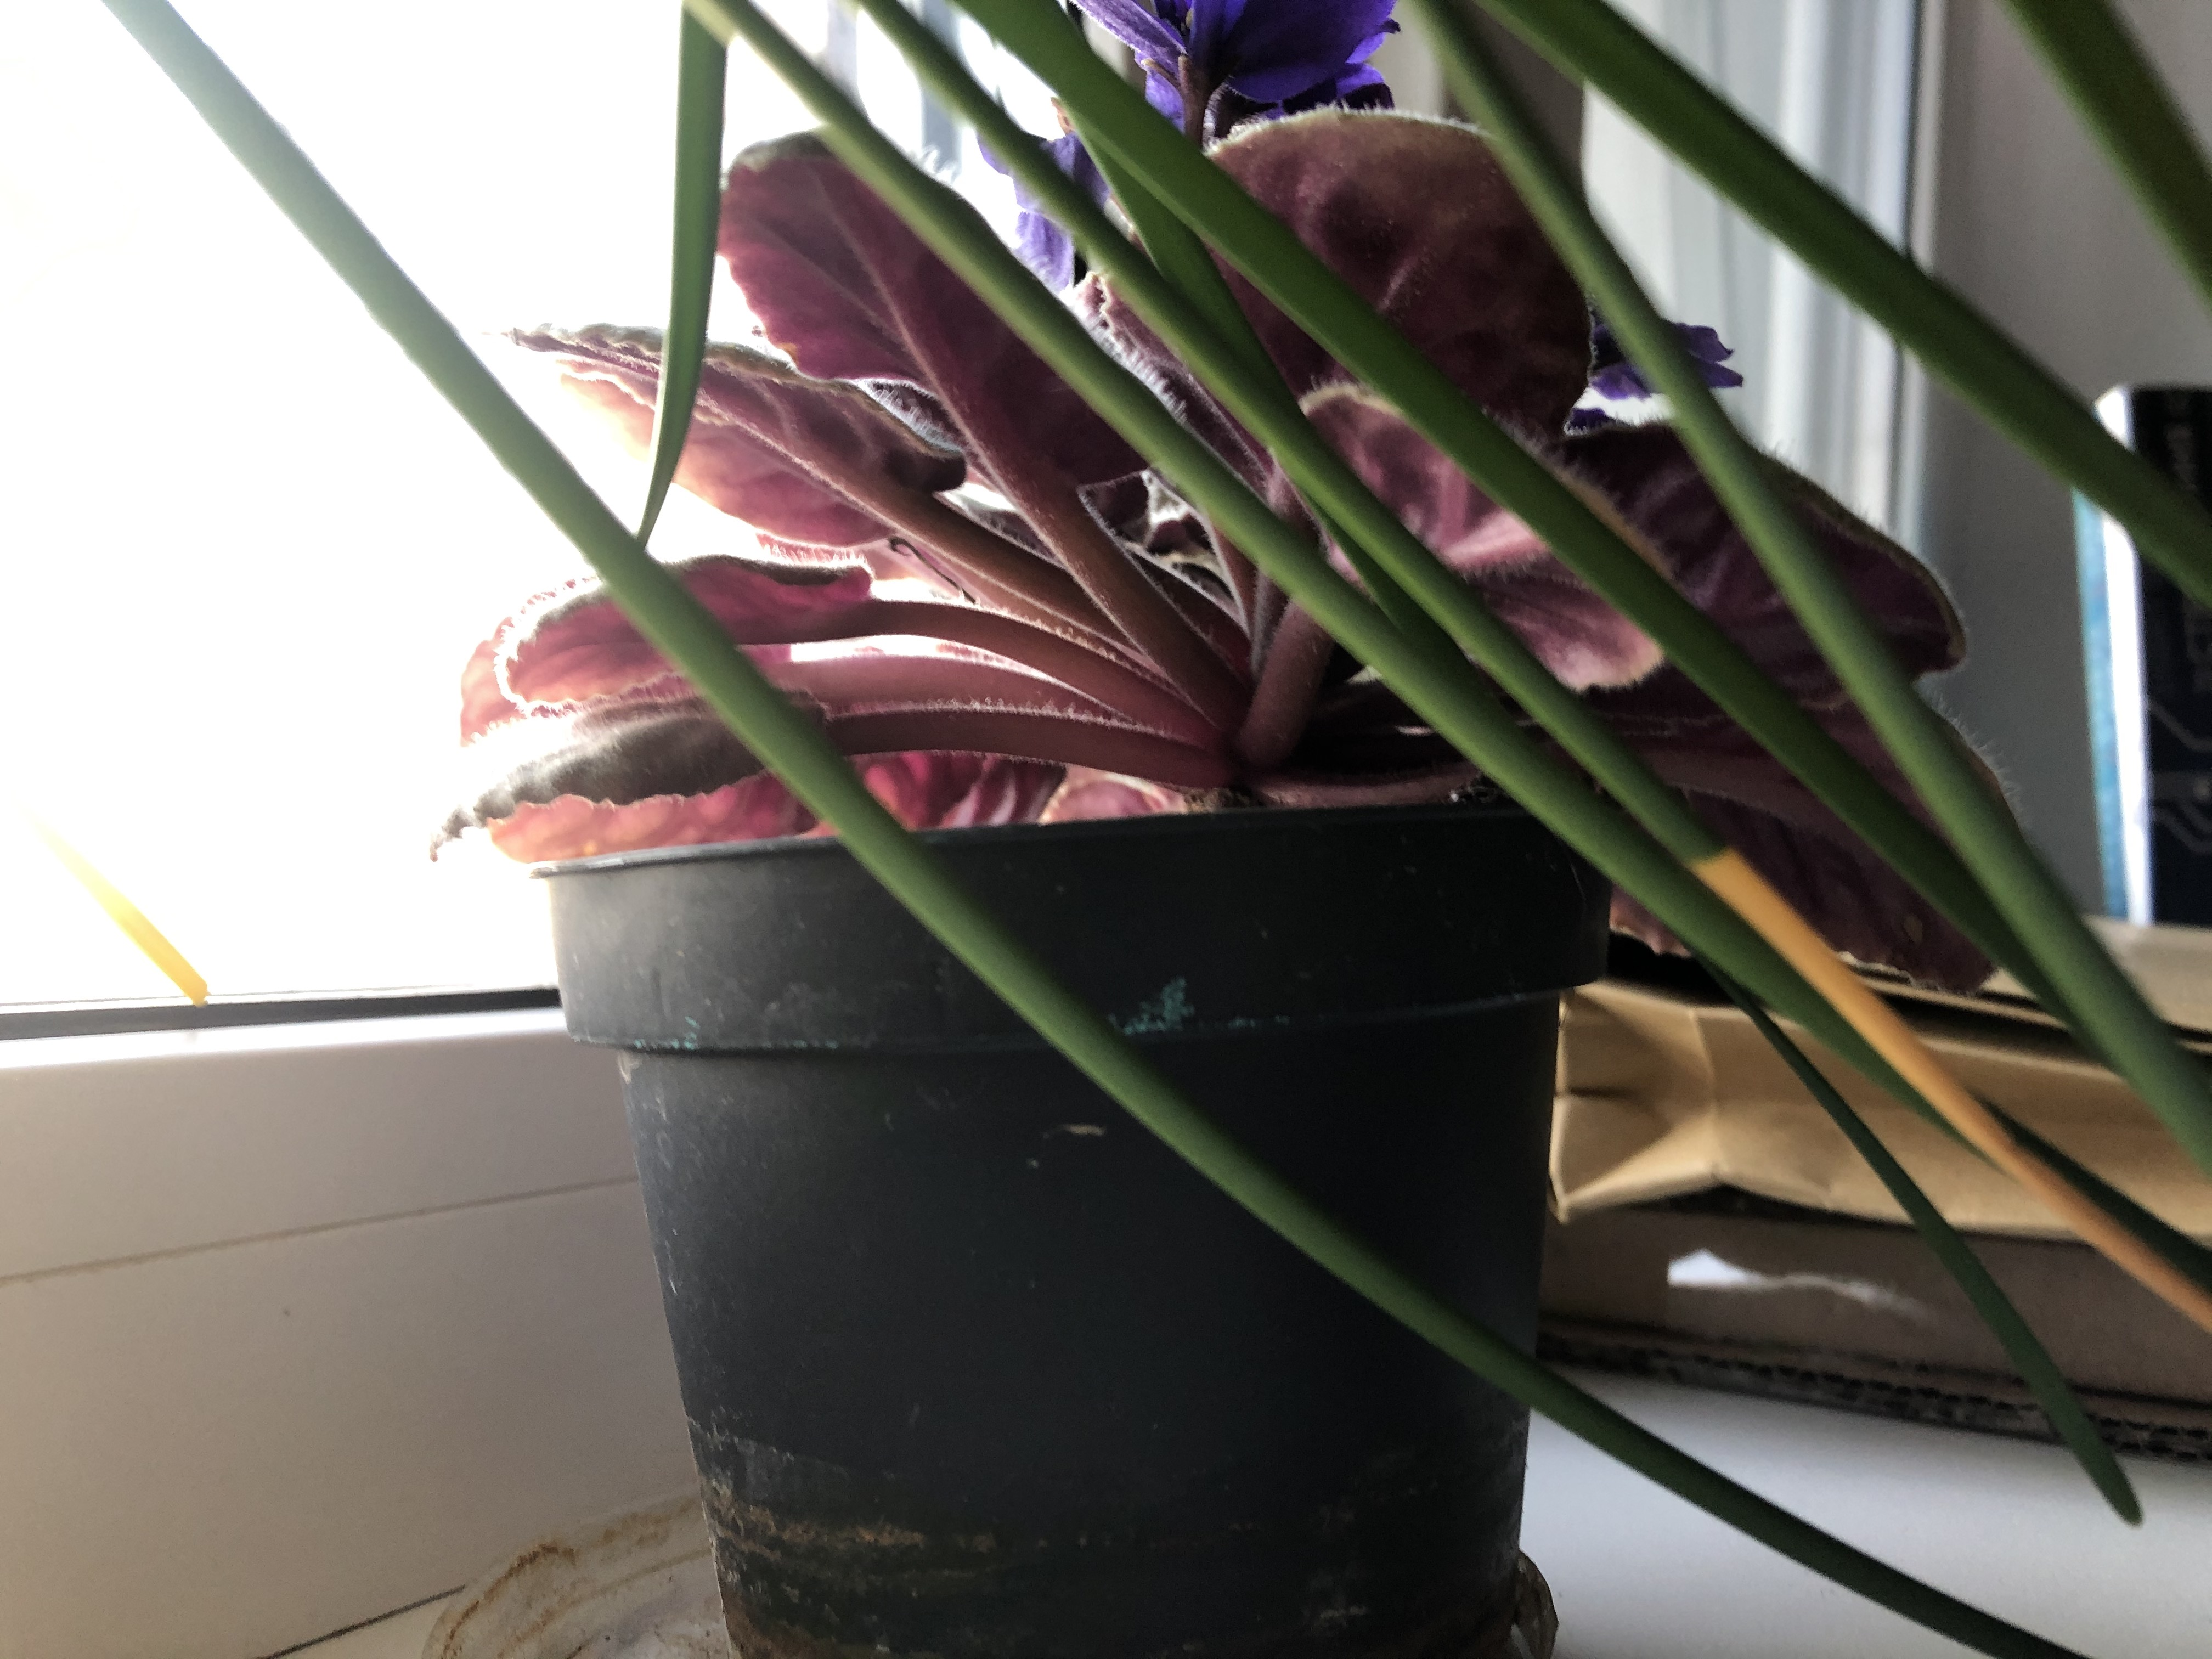ignore: (413, 17, 2076, 1066)
